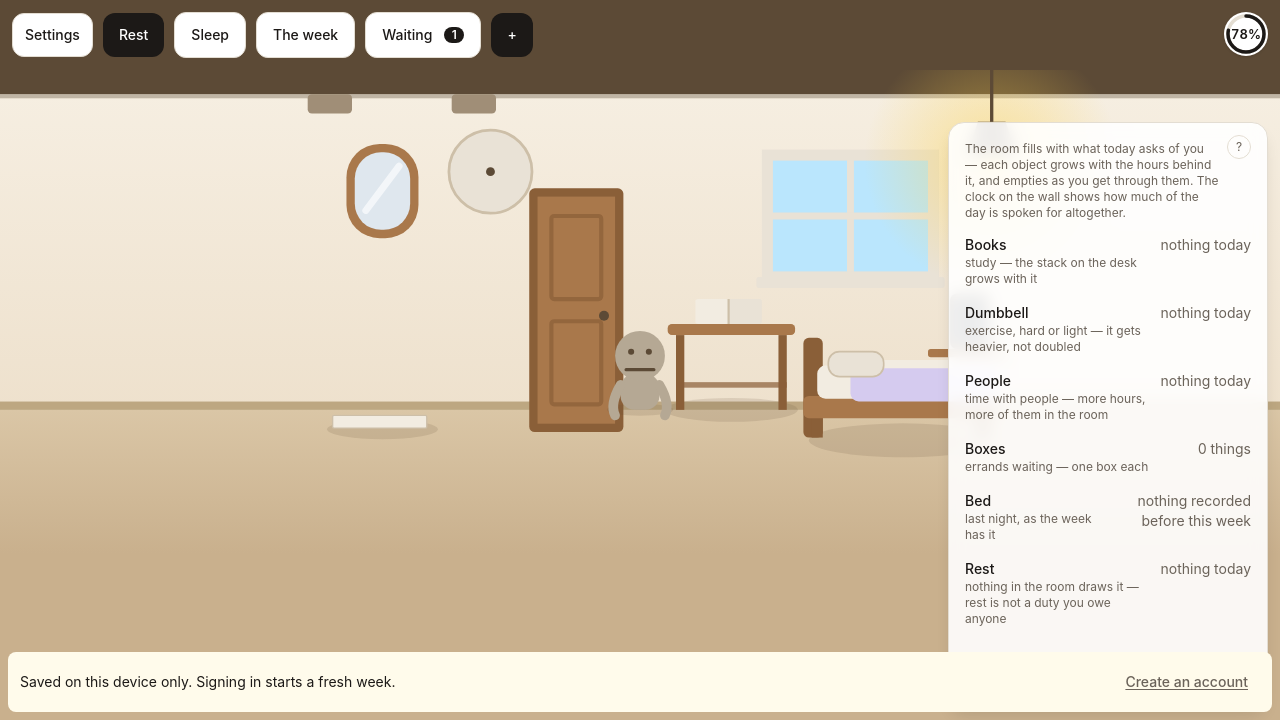
Test: pressing Later › says which opening it passed over, and that the day it chose costs less
Click the button with test id "open-week": (306, 35) [256,12,355,58]
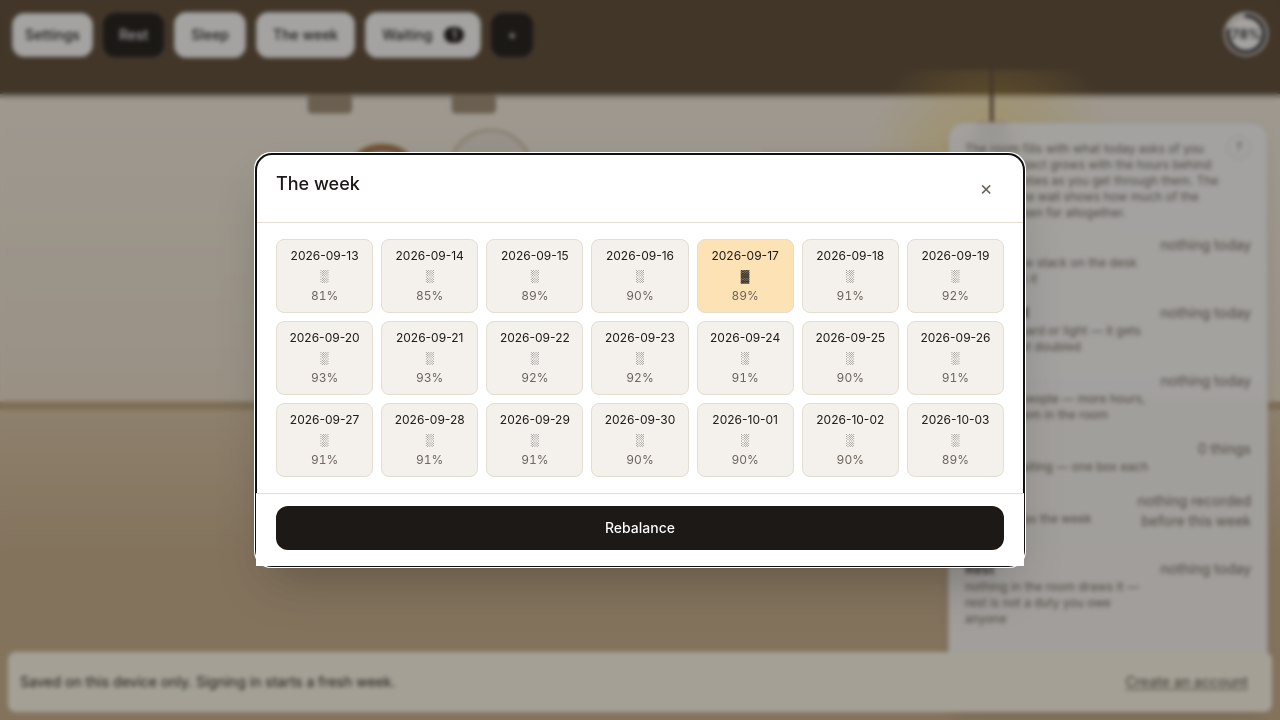
Click the button with test id "day-3": (640, 276) [591,239,688,313]
(page scrolled)
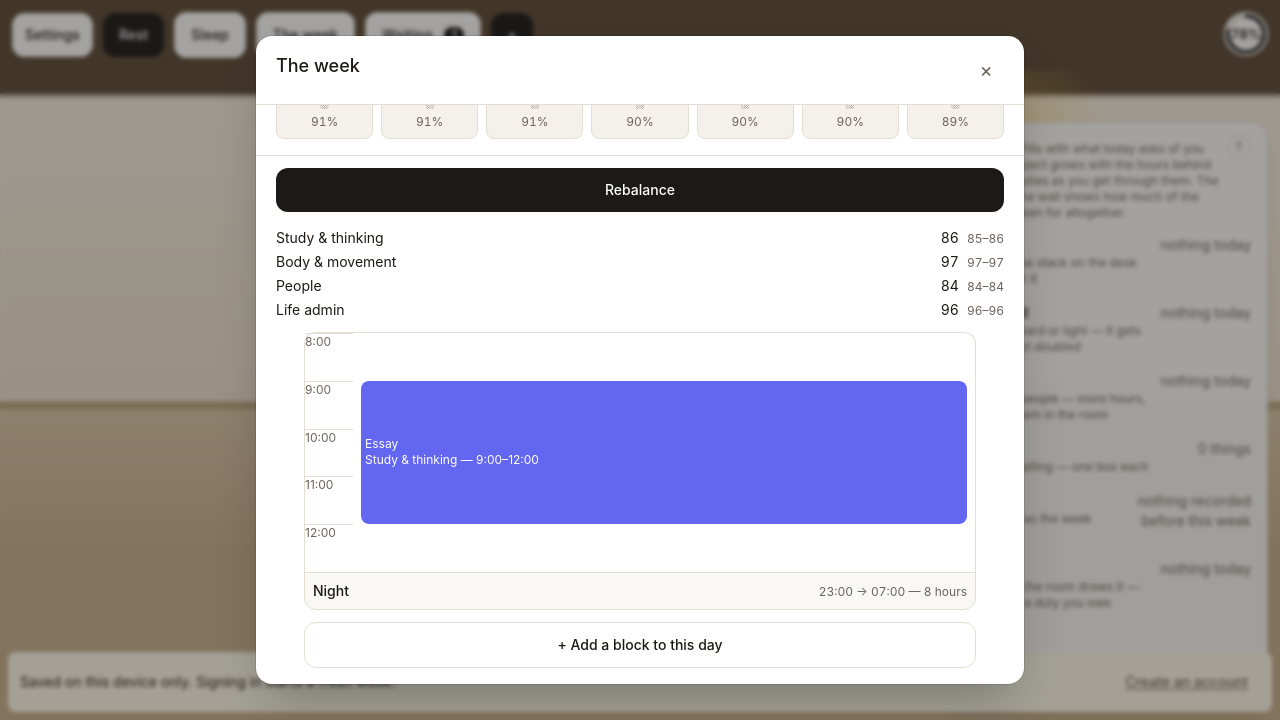
Click the button with test id "block-essay": (382, 444) [361,381,967,524]
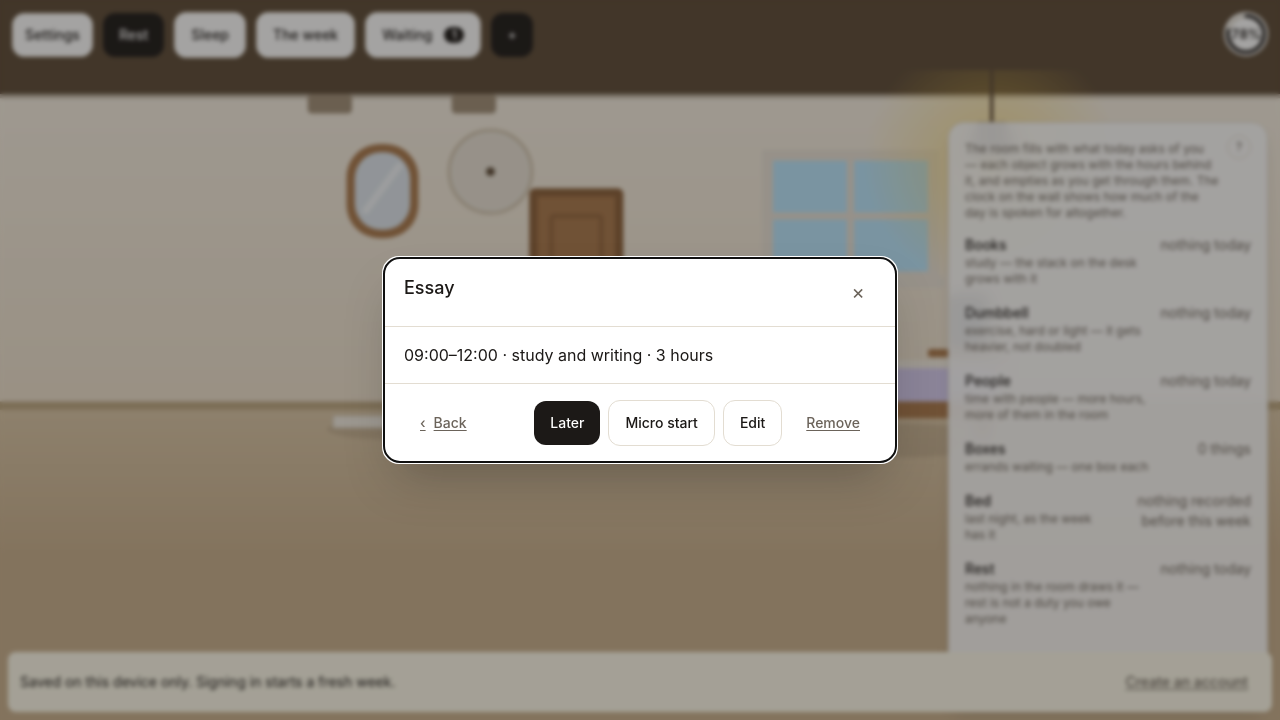
Click the button "Later": (567, 423) [534,401,600,445]
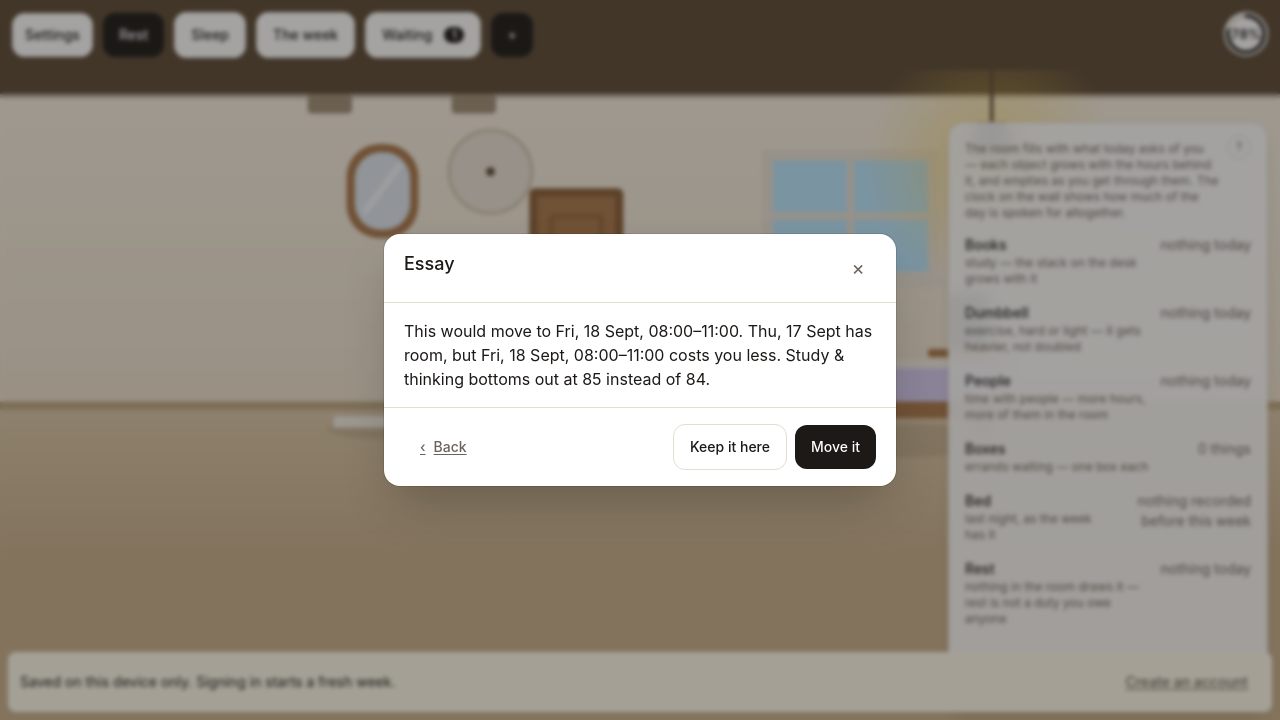
Click the button with test id "confirm-later-yes": (836, 447) [795,425,876,469]
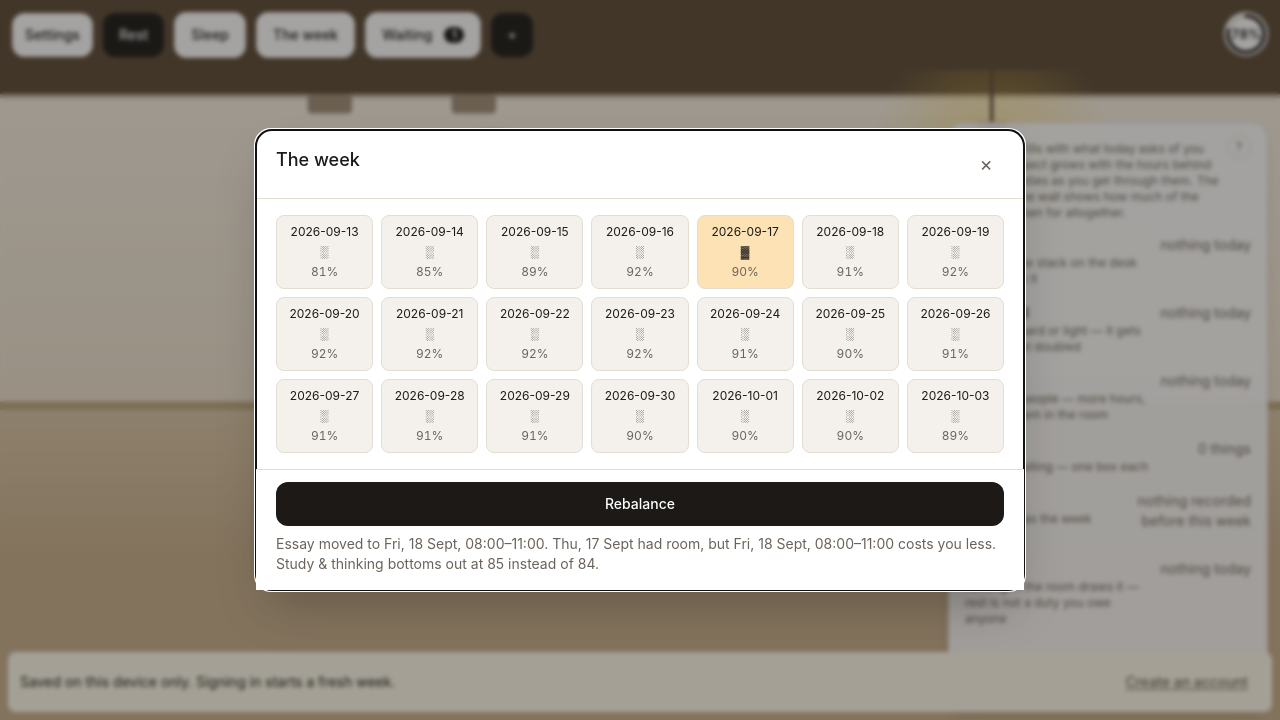
Now the message with test id "week-note" shows "had room, but", box [276,535,996,572]
Now the message with test id "week-note" shows "costs you less", box [276,535,996,572]
